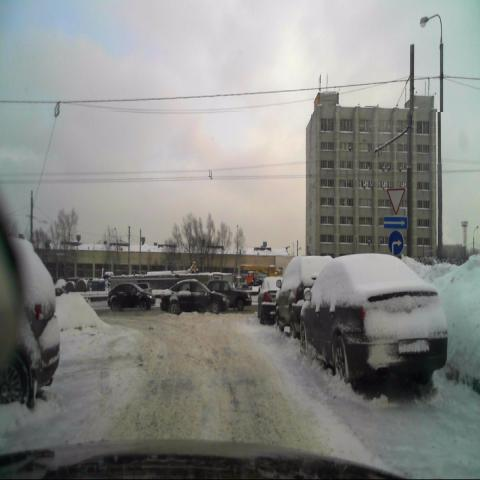5_7_1: (384, 216, 407, 229)
